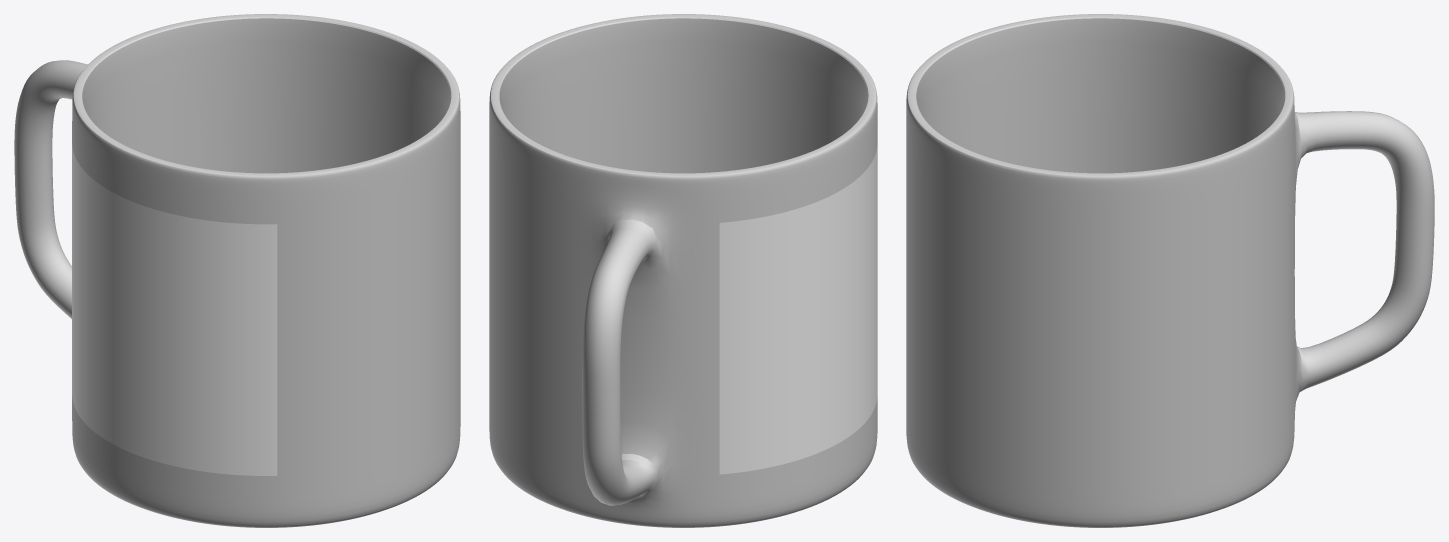
File: mug.gltf
3 views of the same model, side by side, from view 1: azimuth 30°, elevation 25°; view 2: azimuth 150°, elevation 25°; view 3: azimuth 270°, elevation 25° (orthographic).
Visible parts, largest first — view 1: main, surface; view 2: main, surface; view 3: main.
Boxes of the visible parts, x1,y1,x2,y2 form: main: (14,14,460,527); surface: (72,143,277,475); main: (489,14,877,527); surface: (719,145,877,474); main: (906,14,1434,527).
Bounding box in the file's own units: 2.04 × 2.05 × 2.78.
2 materials, 1 textured.
